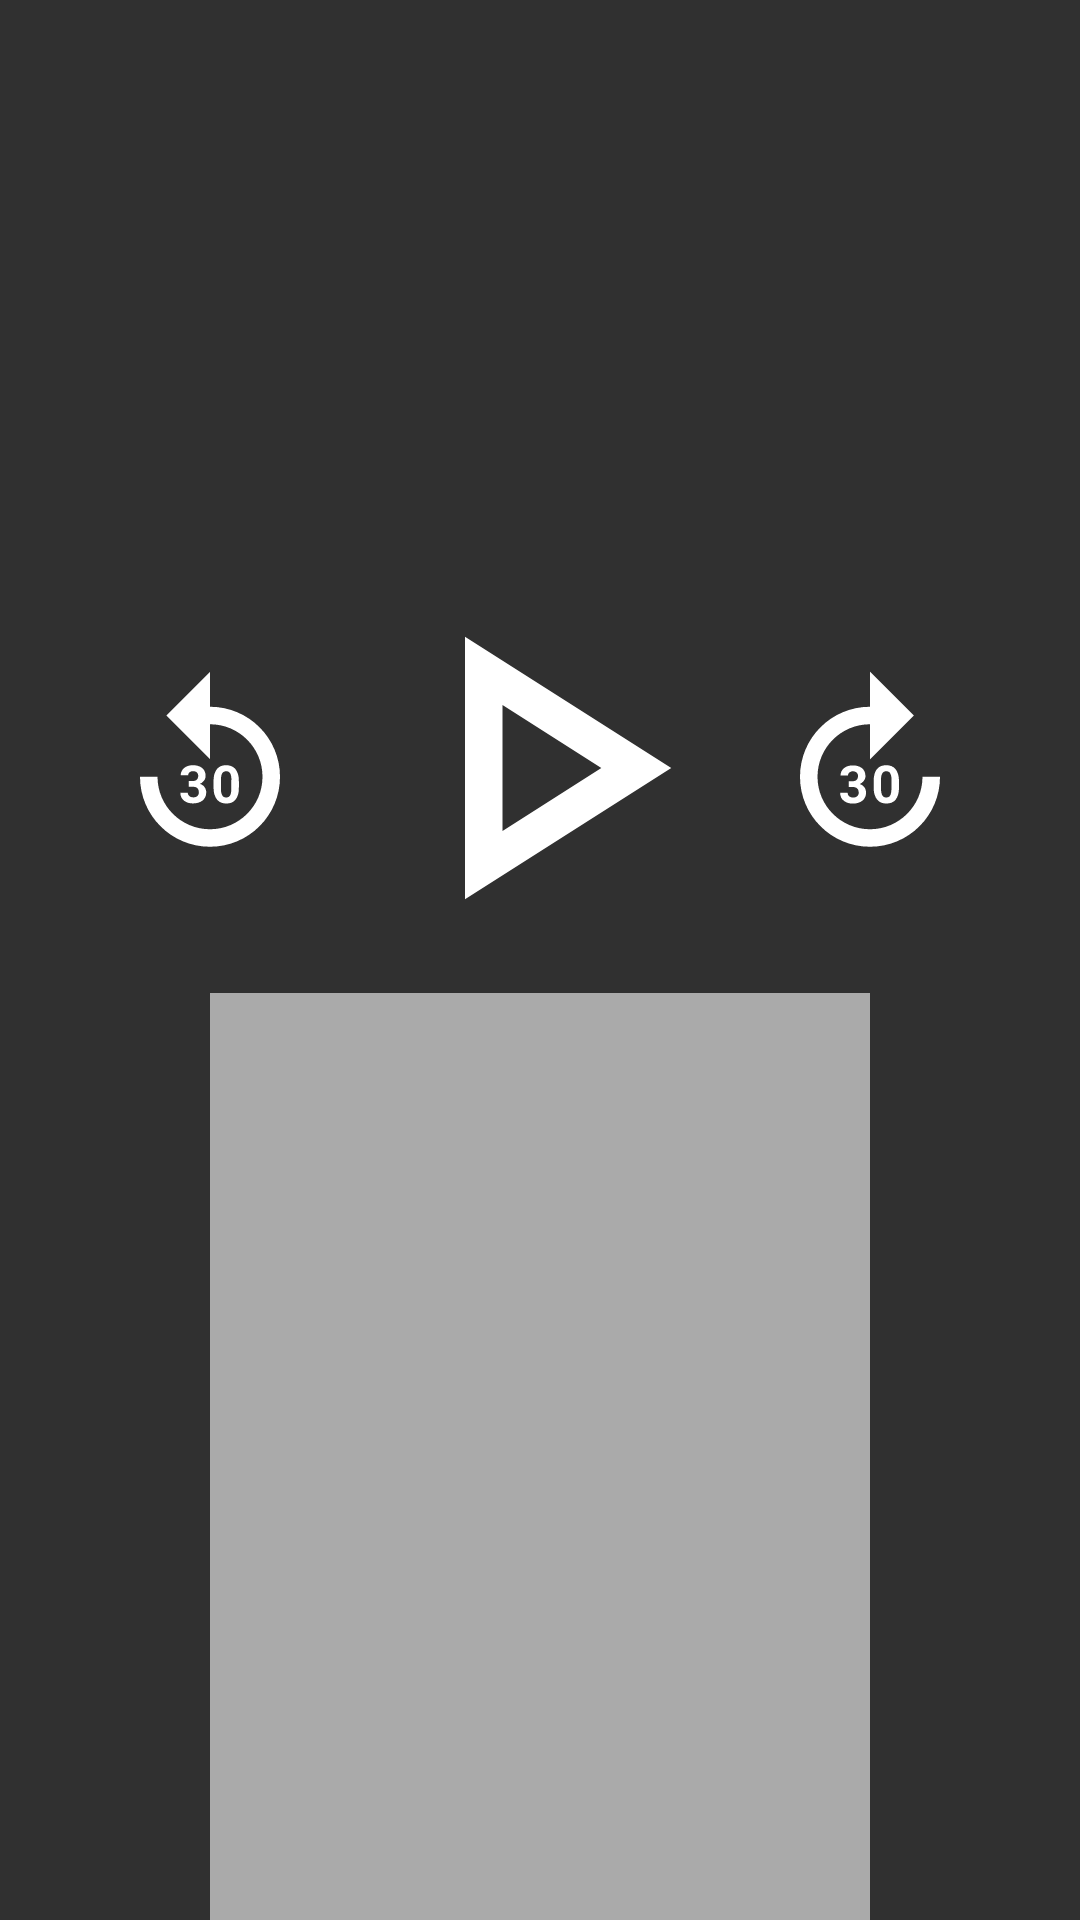

Icon bounding boxes for this 1080px x 1920px phone screenshot, format (x1, y1, x2, y2):
forward: (800, 672, 940, 847)
play arrow: (465, 637, 671, 899)
replay: (140, 672, 280, 847)
